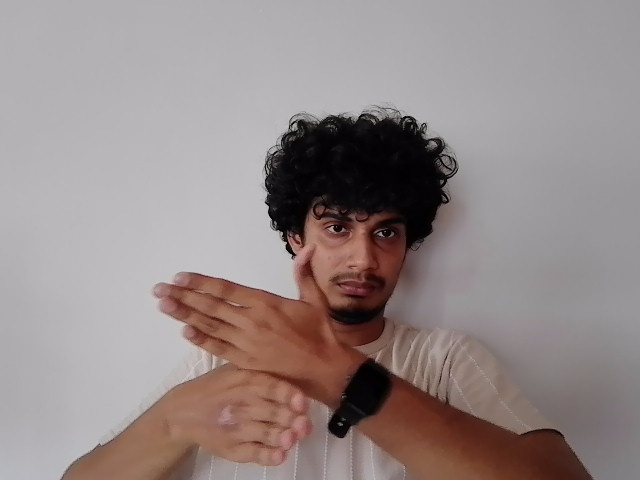busy: (152, 244, 334, 464)
